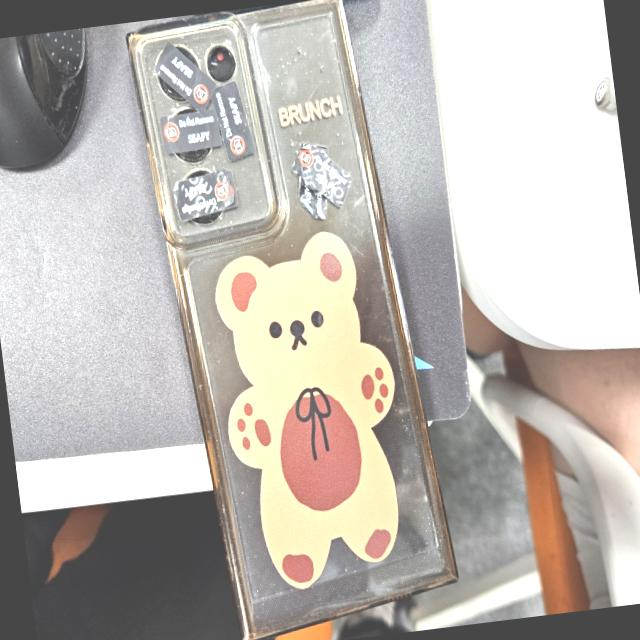phone: (122, 0, 463, 640)
removed_sticker: (296, 142, 352, 210), (172, 168, 233, 219)
sticker: (157, 48, 209, 109), (213, 88, 251, 158), (160, 110, 220, 152)
